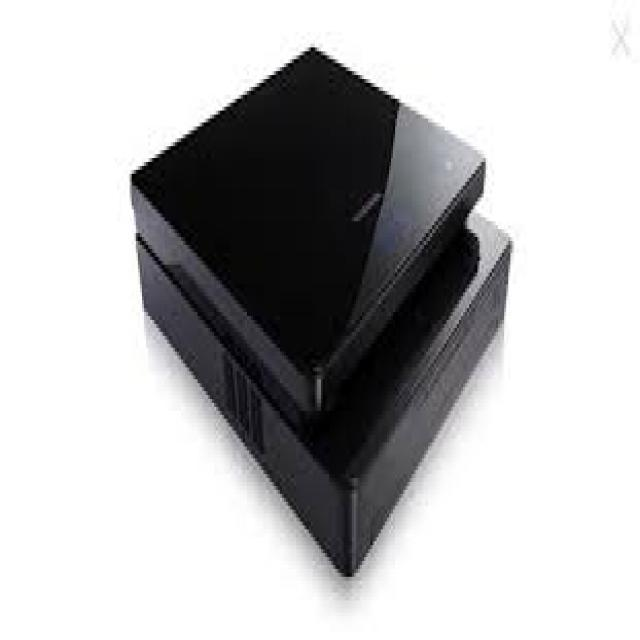printer: (131, 36, 516, 580)
